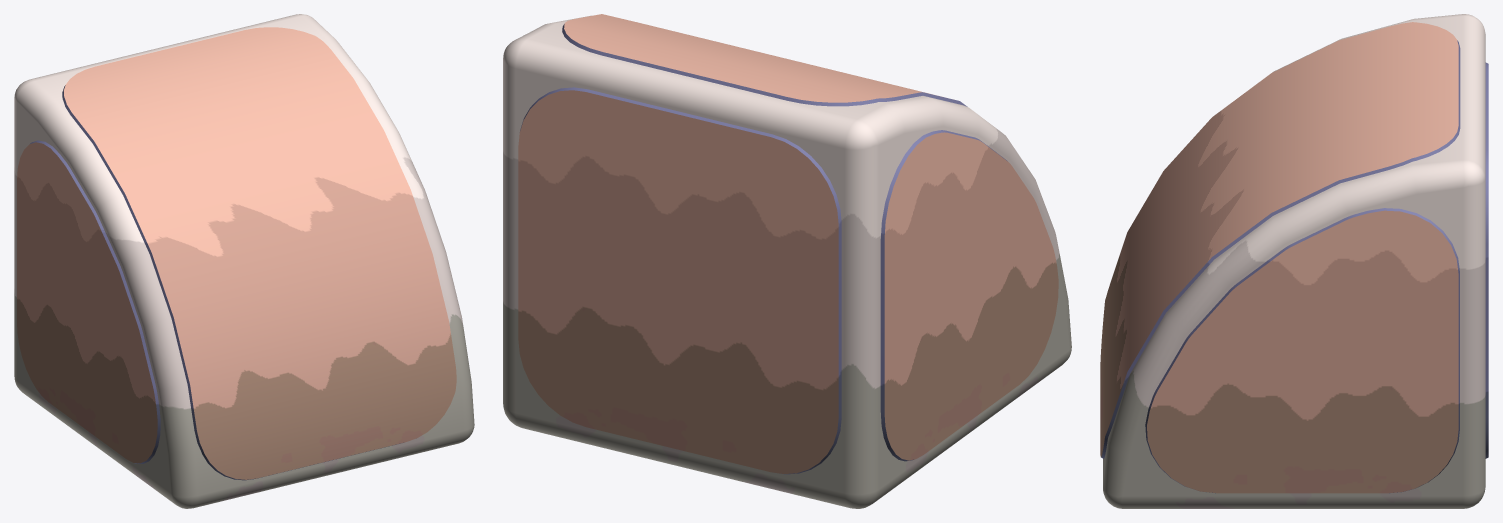
File: R4B_RoundEdge.glb
The picture shows the model from 3 angles, left to right: view 1: azimuth 30°, elevation 25°; view 2: azimuth 150°, elevation 25°; view 3: azimuth 270°, elevation 25°; orthographic projection. The views are drawn at different scales.
Parts seen in each view (by area): view 1: R4B_RoundEdge; view 2: R4B_RoundEdge; view 3: R4B_RoundEdge.
Boxes of the visible parts, x1=… form: R4B_RoundEdge: x1=14, y1=14, x2=474, y2=508; R4B_RoundEdge: x1=503, y1=14, x2=1071, y2=508; R4B_RoundEdge: x1=1100, y1=14, x2=1488, y2=508.
Size of the model in its own units: 0.52 by 0.5163 by 0.5163.
3 materials, 3 textured.
